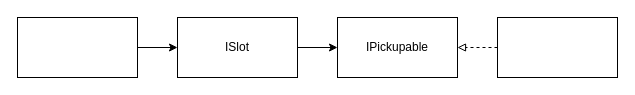
This 635x95 diagram has some shape labels left out. Here are the shapes that lost their labels. From the top down, the centre of each, then its label:
the point at 77,47: Inventory
the point at 557,47: Item
